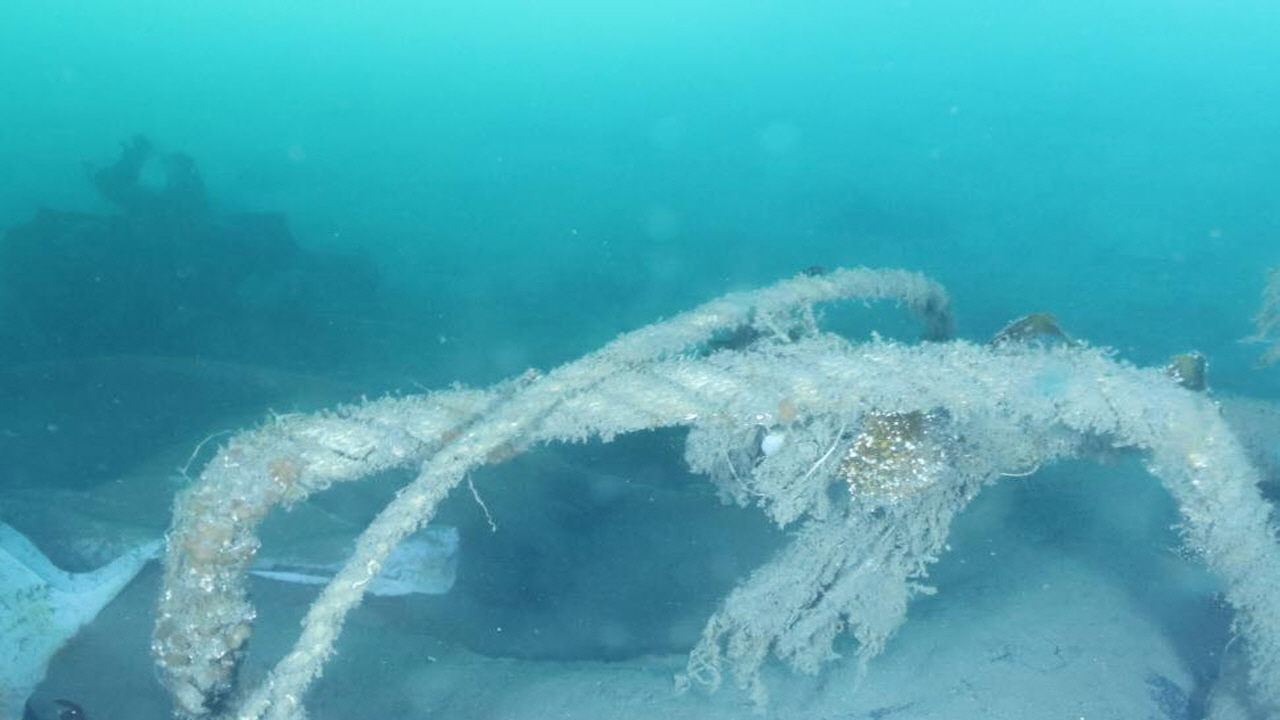bundle of ropes: (163, 261, 1280, 720)
